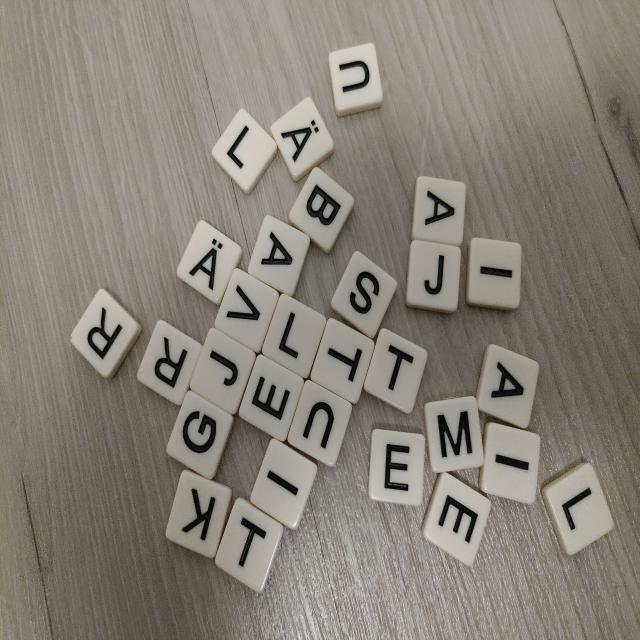a: (474, 341, 540, 431), (247, 213, 312, 298), (410, 175, 467, 248)
a_dot: (174, 217, 245, 307), (268, 95, 338, 183)
b: (287, 164, 357, 256)
e: (419, 471, 493, 569), (237, 352, 306, 444), (368, 429, 425, 506)
g: (163, 389, 236, 482)
i: (249, 437, 320, 533), (479, 421, 542, 506), (465, 236, 523, 313)
j: (188, 326, 257, 417), (404, 240, 462, 314)
k: (164, 467, 233, 560)
l: (540, 460, 616, 560), (209, 107, 281, 198), (260, 291, 328, 381)
m: (422, 395, 485, 474)
r: (67, 287, 143, 382), (135, 318, 203, 407)
s: (329, 248, 399, 341)
t: (213, 495, 286, 595), (309, 315, 376, 406), (362, 326, 429, 416)
u: (286, 379, 354, 470), (327, 42, 384, 117)
v: (212, 266, 281, 355)
